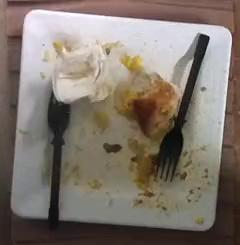chicken: (132, 79, 178, 138)
